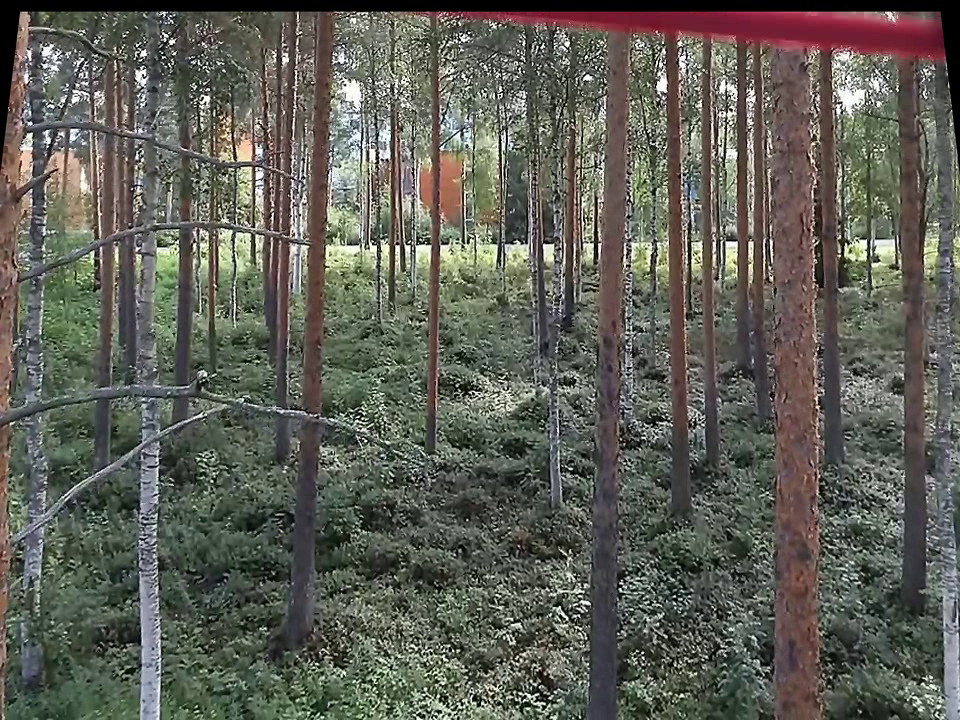branch: (9, 354, 414, 428), (29, 110, 302, 186), (20, 214, 315, 283), (32, 16, 135, 70)
trunk: (762, 56, 828, 710), (277, 31, 343, 635), (581, 26, 637, 709), (14, 39, 59, 686), (131, 25, 173, 715), (886, 76, 938, 611), (654, 41, 704, 520), (807, 60, 859, 474), (412, 18, 455, 458), (692, 45, 729, 473), (88, 37, 122, 484), (728, 55, 769, 418)
